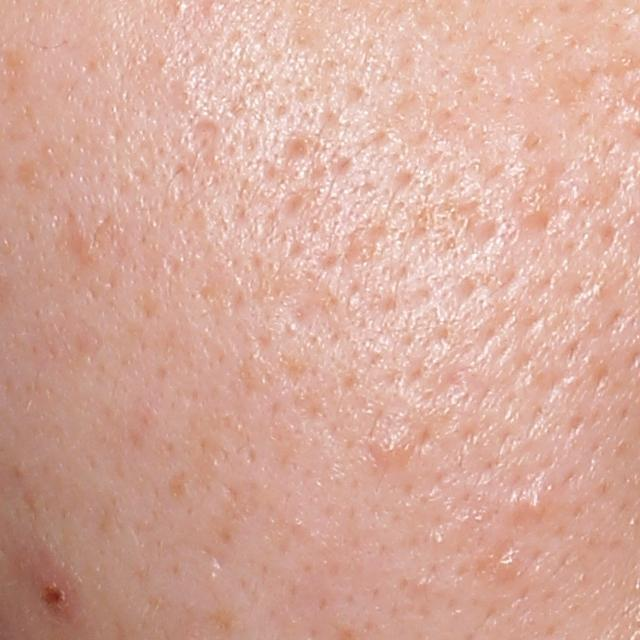atrophic_scar: (282, 279, 341, 345), (455, 197, 505, 267), (180, 111, 223, 165), (274, 134, 322, 179)
comedo: (372, 435, 405, 467), (521, 490, 546, 521), (493, 550, 519, 577)
papule: (36, 566, 75, 618)
